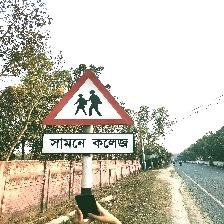College-in-front: (33, 67, 151, 166)
